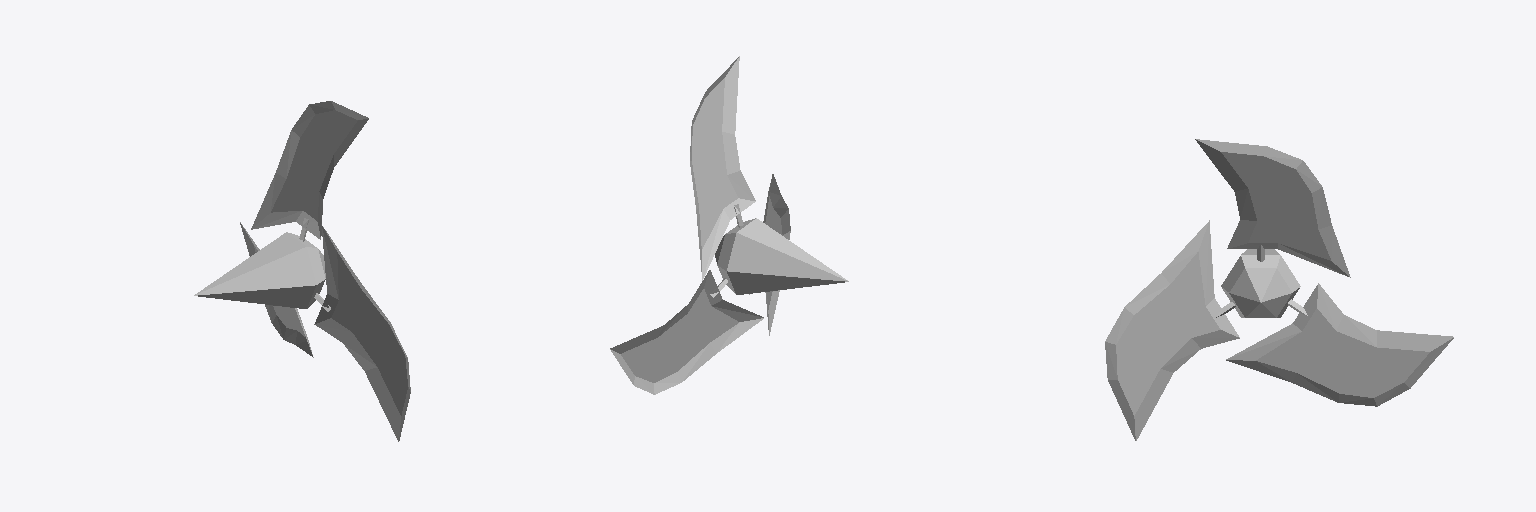
Rendered from stg400_MotFan_g3_07.obj.
3 views of the same model, side by side, from view 1: azimuth 30°, elevation 25°; view 2: azimuth 150°, elevation 25°; view 3: azimuth 270°, elevation 25° (orthographic).
Parts seen in each view (by area): view 1: polygon1, polygon0; view 2: polygon1, polygon0; view 3: polygon1, polygon0.
Boxes of the visible parts, x1=… form: polygon1: x1=240, y1=101, x2=410, y2=441; polygon0: x1=194, y1=232, x2=325, y2=308; polygon1: x1=610, y1=56, x2=790, y2=394; polygon0: x1=715, y1=218, x2=848, y2=294; polygon1: x1=1105, y1=139, x2=1453, y2=440; polygon0: x1=1221, y1=249, x2=1300, y2=317.
Size of the model in its own units: 15.62 by 31.24 by 32.69.